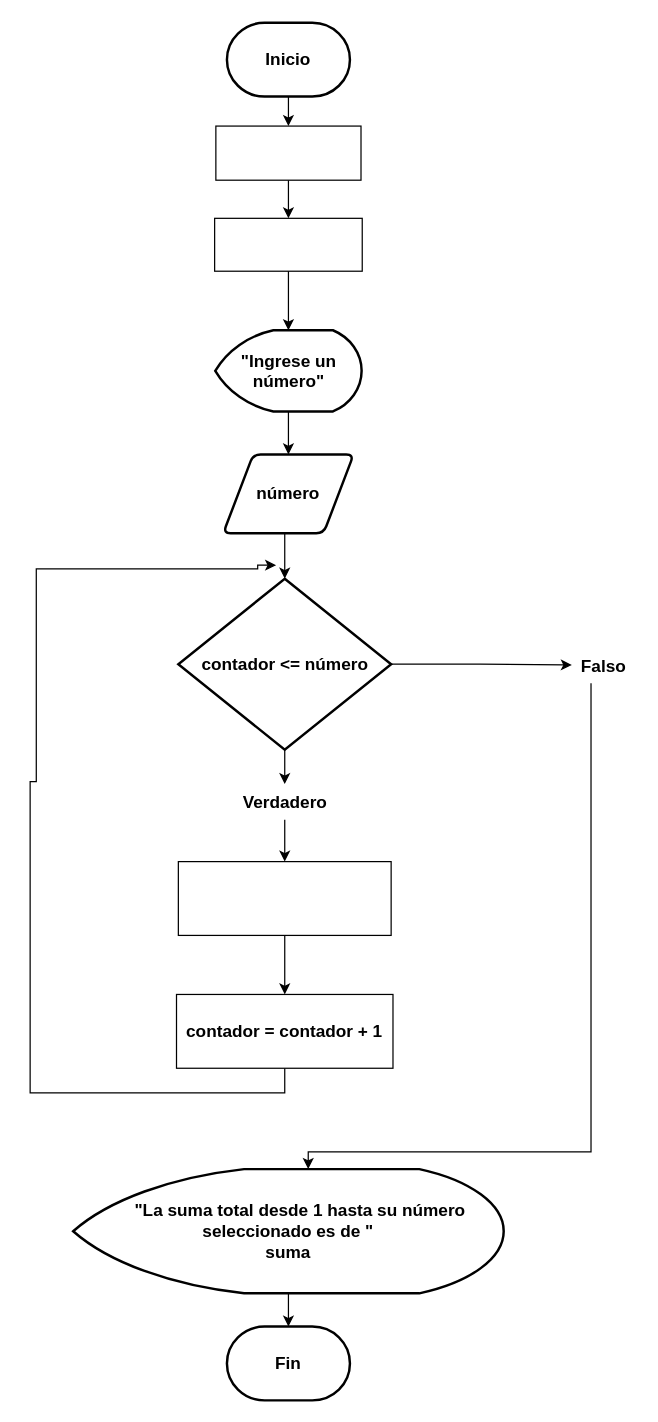
Some shapes in this 658 by 1422 pixel diagram are drawn without their labels. The shapes that lost their labels are listed below. From the top down, each one's centre as x and y in pixels, then its label:
At [288,152]: "contador = 1".
At [287,244]: "suma = 0".
At [284,897]: "suma = suma + contador".
